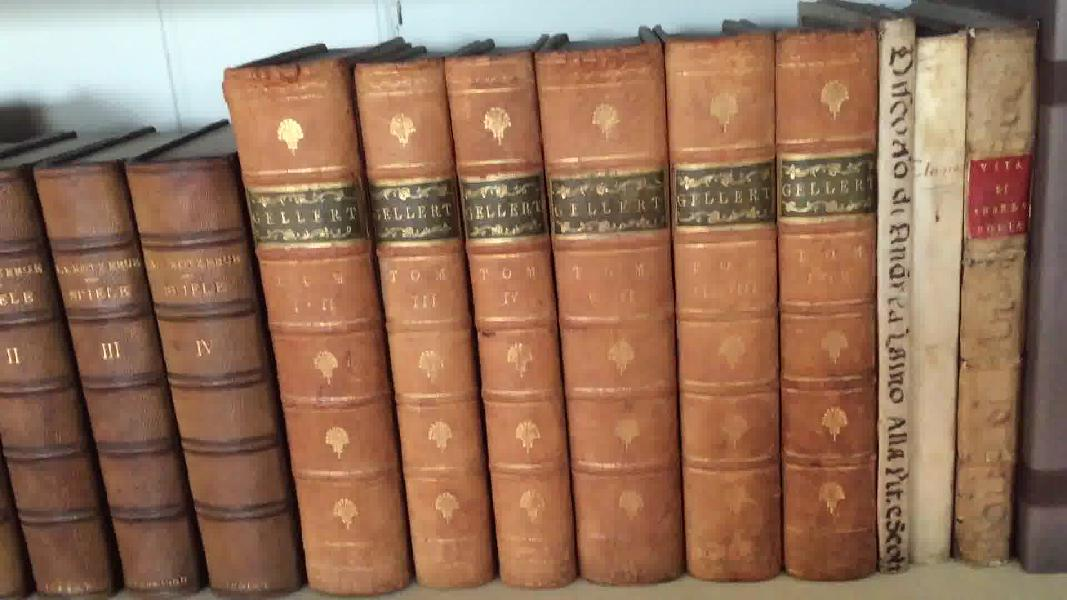Aa6-18_23: (208, 1, 883, 600)
Aa6-24: (878, 5, 920, 582)
Aa6-25: (911, 21, 952, 578)
Aa6-26: (963, 15, 1039, 584)
